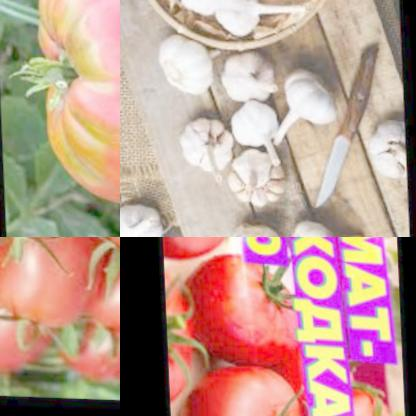garlic: (224, 145, 295, 219), (168, 109, 242, 177), (144, 28, 216, 95), (279, 62, 348, 126), (229, 90, 285, 165), (355, 103, 405, 185), (216, 53, 285, 110), (285, 207, 371, 237), (120, 185, 168, 237), (211, 0, 273, 32), (227, 214, 281, 237), (176, 0, 233, 17)
tomato: (16, 0, 120, 211), (0, 237, 102, 386), (182, 251, 304, 368), (56, 243, 120, 381), (180, 363, 314, 416), (164, 267, 197, 400), (319, 383, 401, 416)
